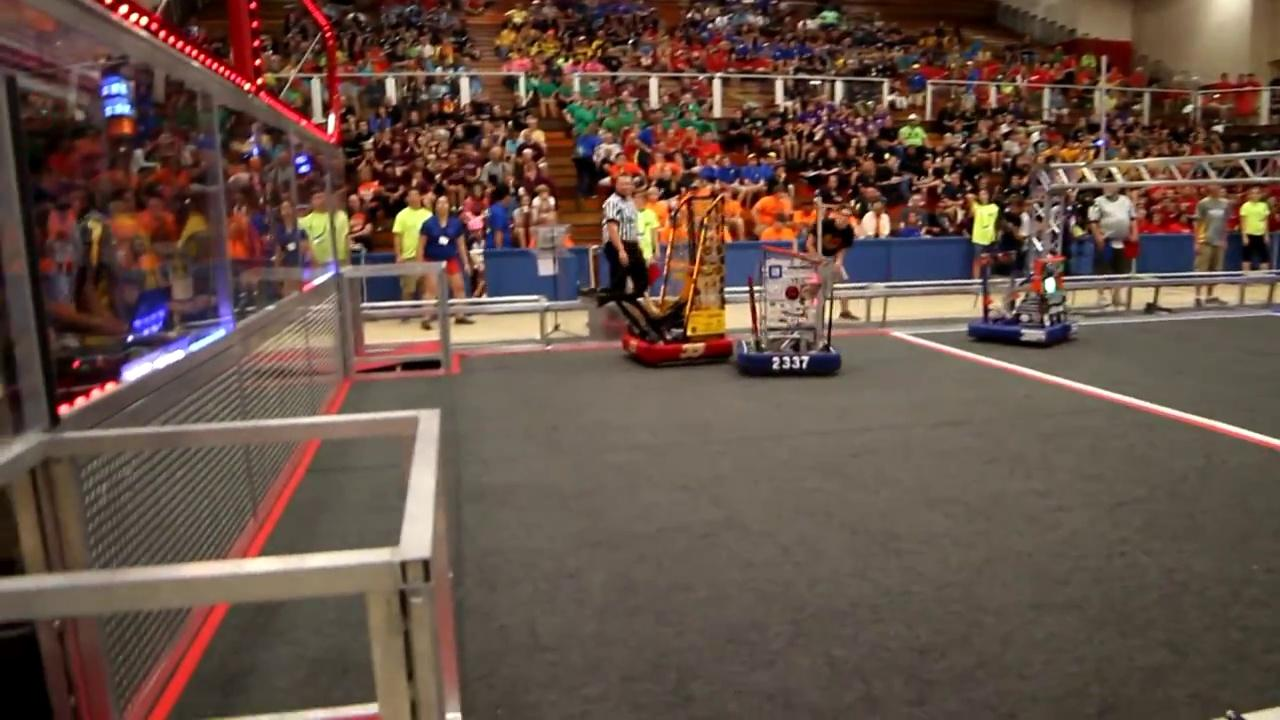robot: (586, 187, 735, 367), (731, 241, 847, 380), (963, 245, 1085, 350)
